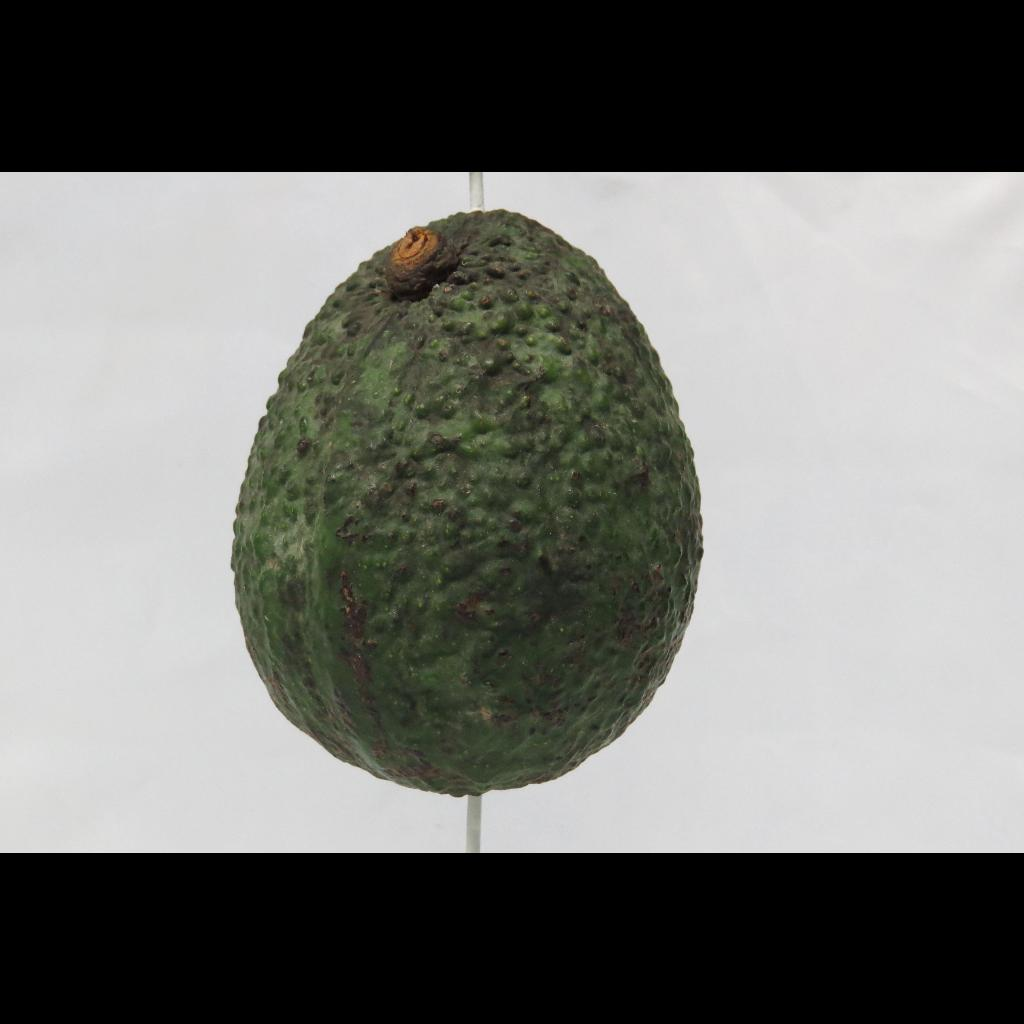Healthy: (220, 188, 756, 836)
